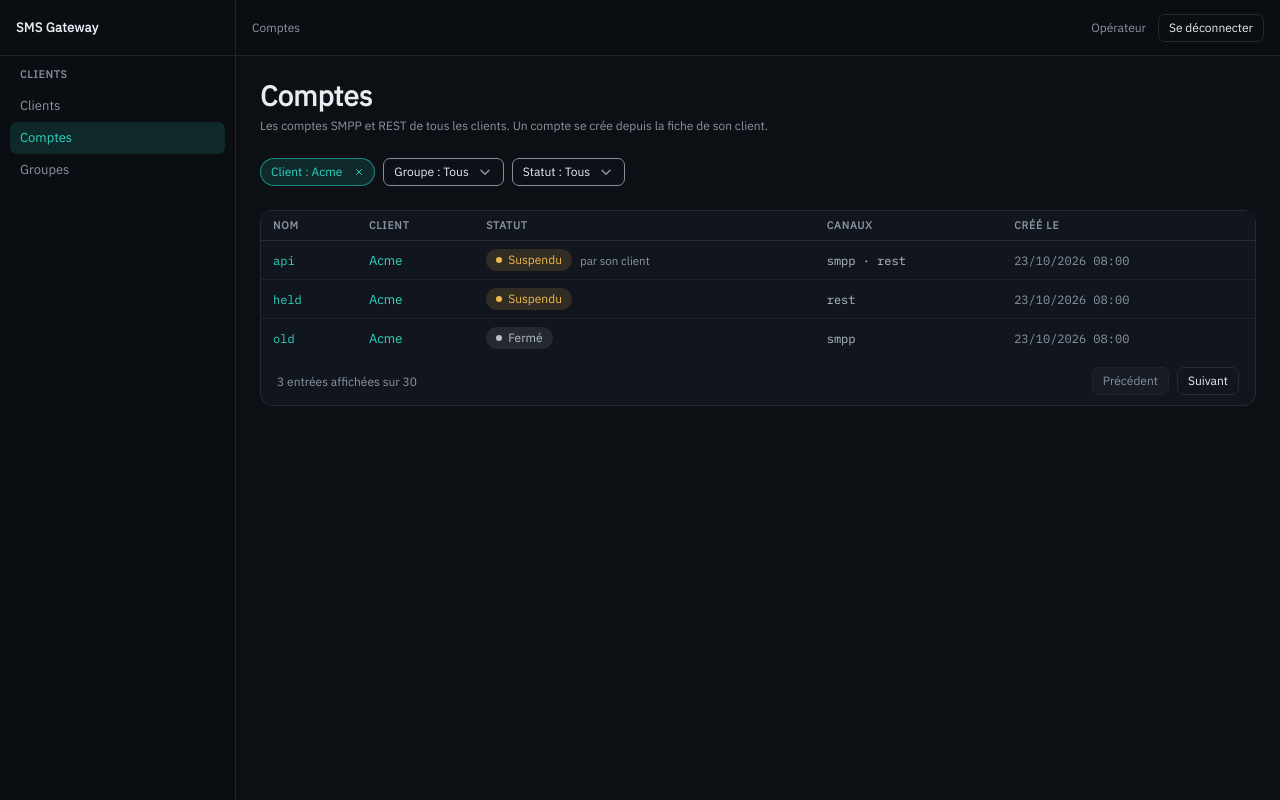
a customer filter from the address is shown with its name and can be removed
What coordinates should you click on to do the following:
click the button named "Retirer le filtre Client"
I would click on:
 (359, 172)
Its box is [348,161,370,183].
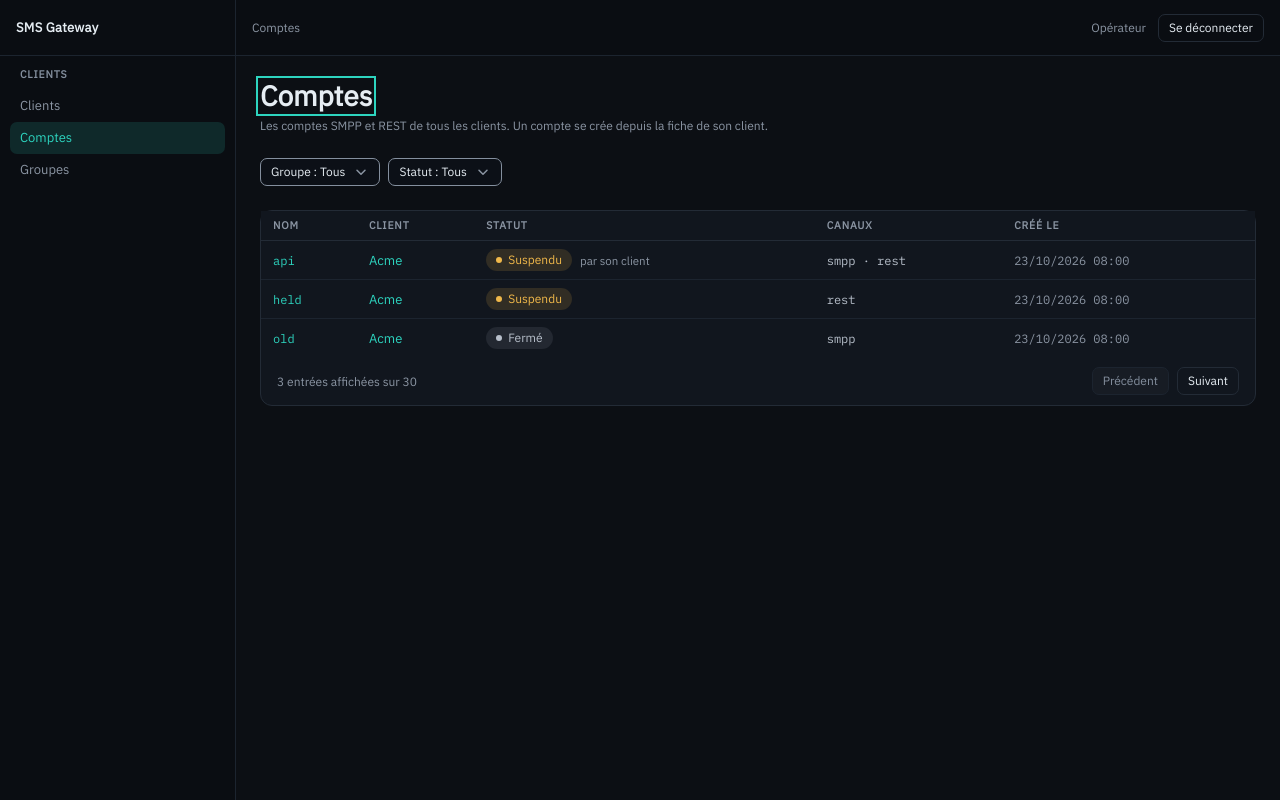
Result: the text "Client : Acme" is gone
